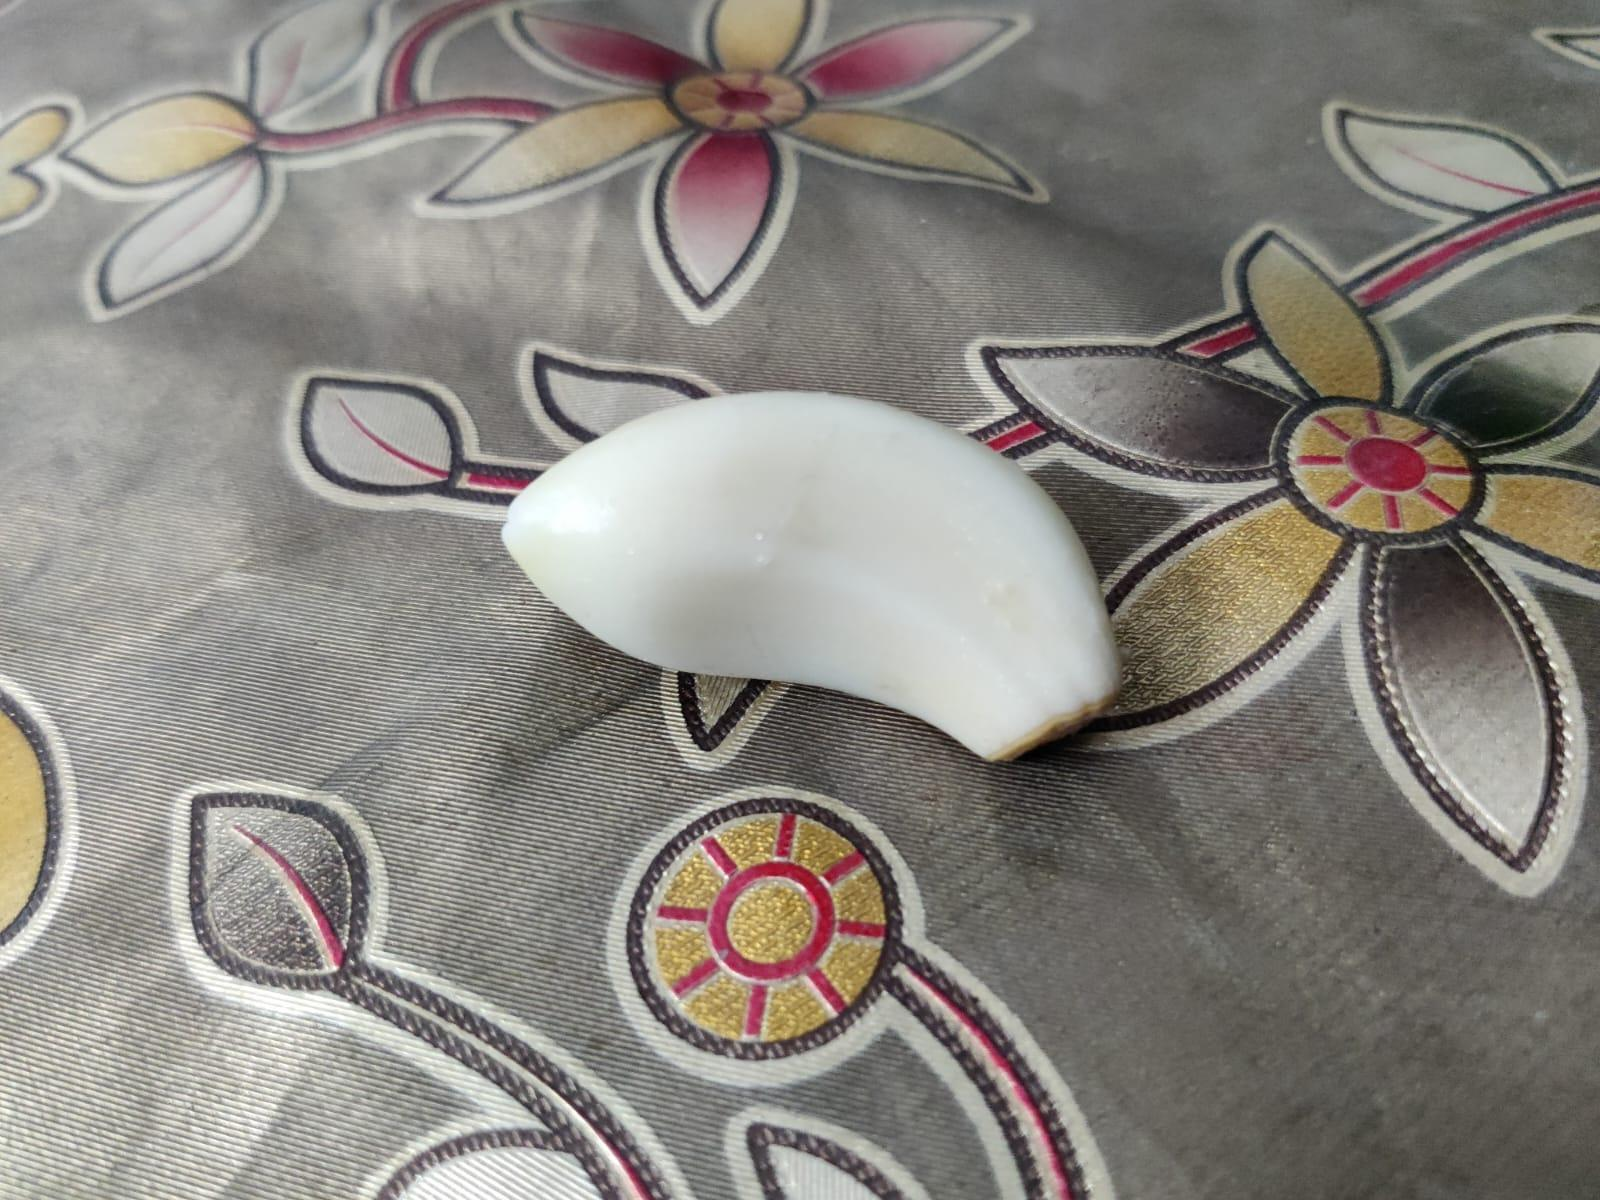non-mango: (480, 381, 1135, 768)
